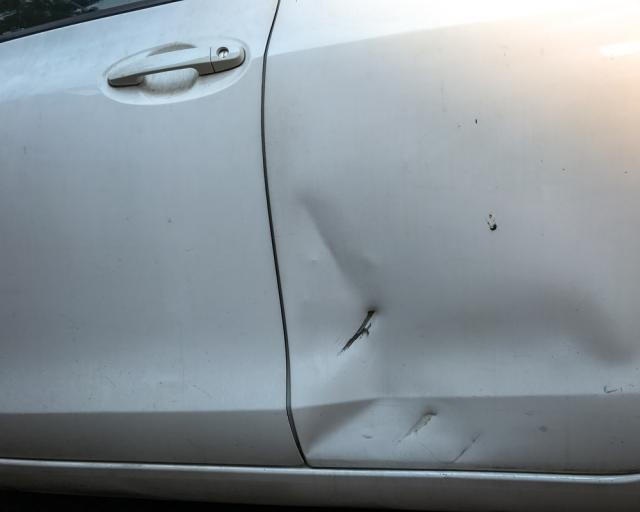dent: (285, 194, 640, 464)
